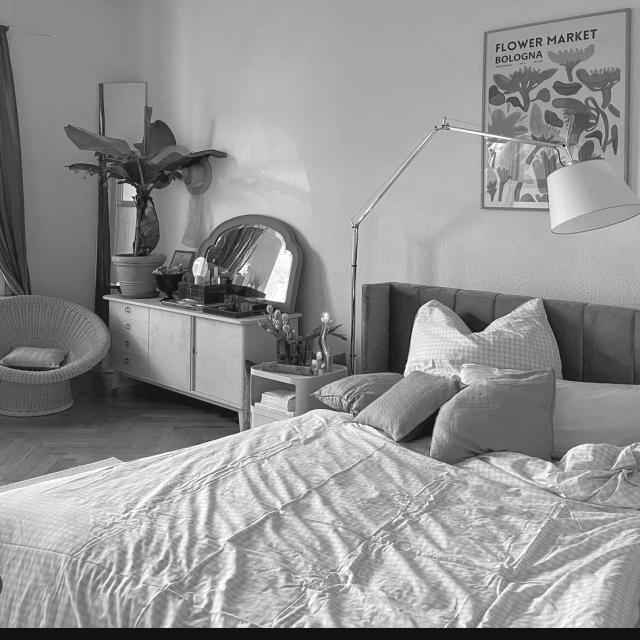bed: (0, 299, 640, 622)
